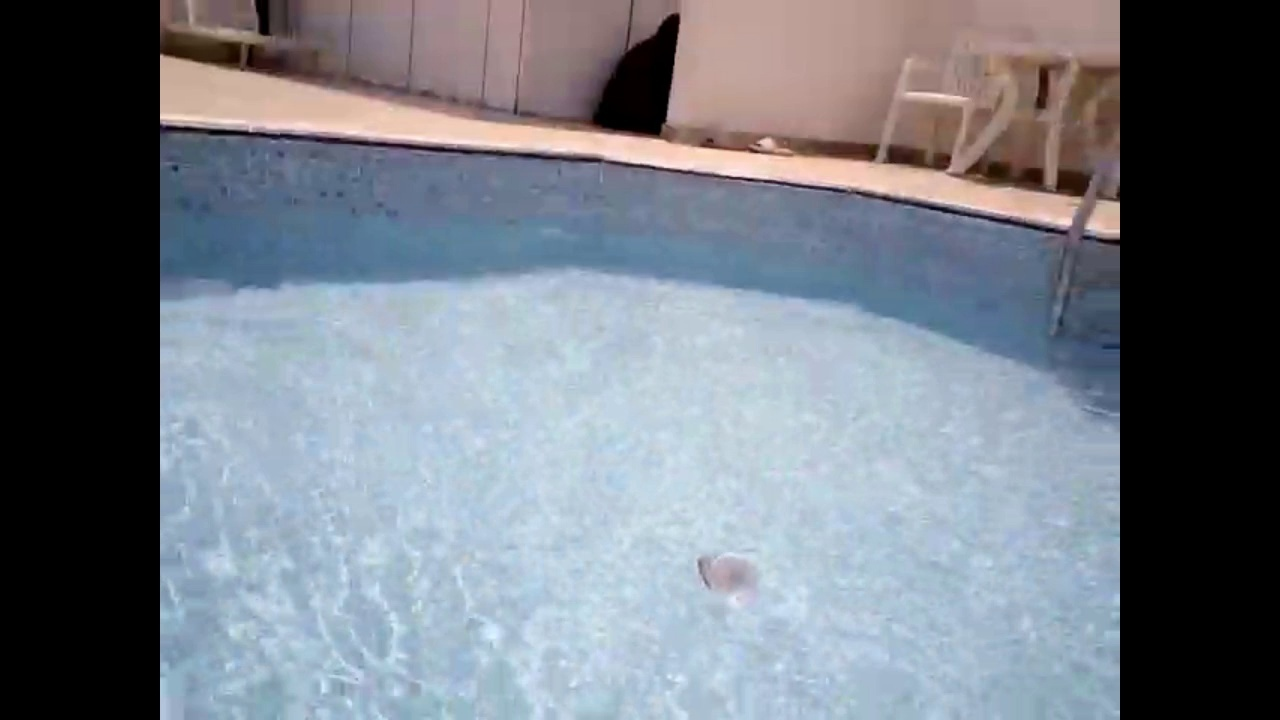debris: (686, 543, 765, 603)
